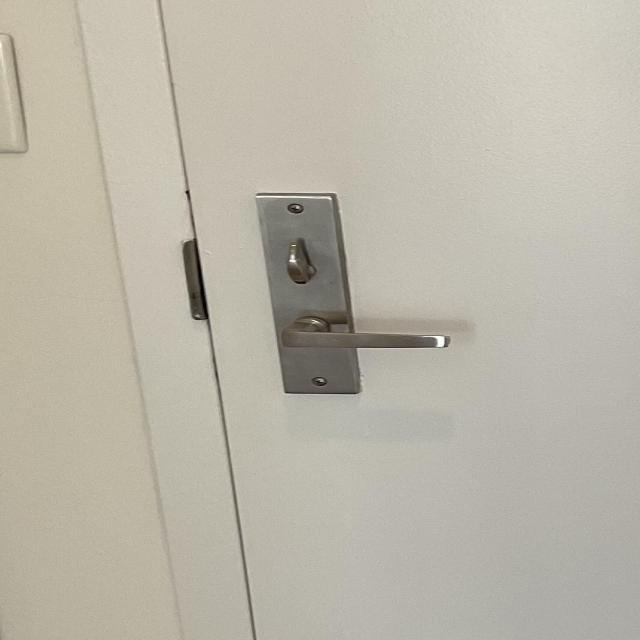door_handle: (243, 308, 459, 362)
